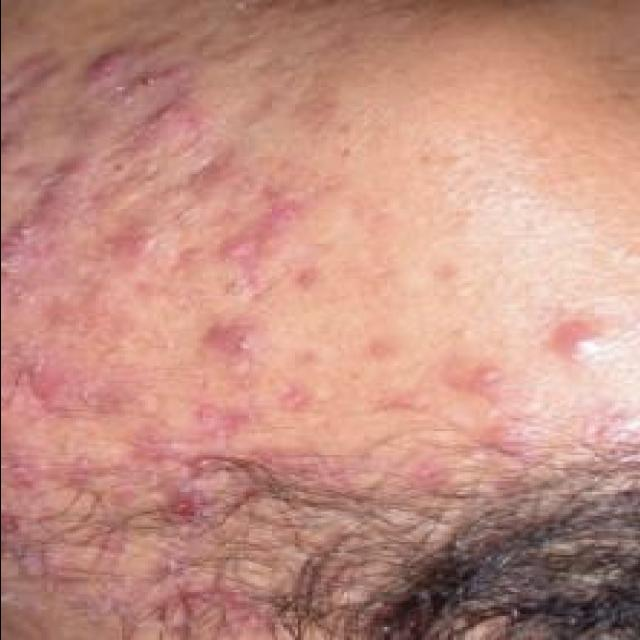Acne: (36, 156, 102, 227), (212, 232, 276, 296), (542, 312, 612, 368), (18, 356, 80, 418), (146, 94, 206, 152), (0, 215, 45, 282), (100, 221, 166, 265), (188, 400, 252, 444), (440, 360, 514, 398), (253, 182, 310, 230), (82, 44, 136, 92), (0, 446, 49, 498), (126, 424, 190, 462), (200, 320, 258, 360), (271, 380, 322, 418)
